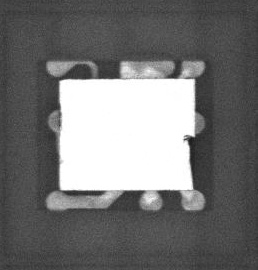DIE_BROKEN: (182, 133, 195, 189)
